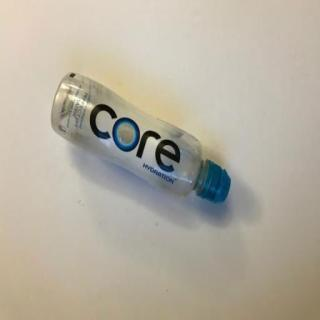Plastic-bottle: (49, 70, 235, 209)
